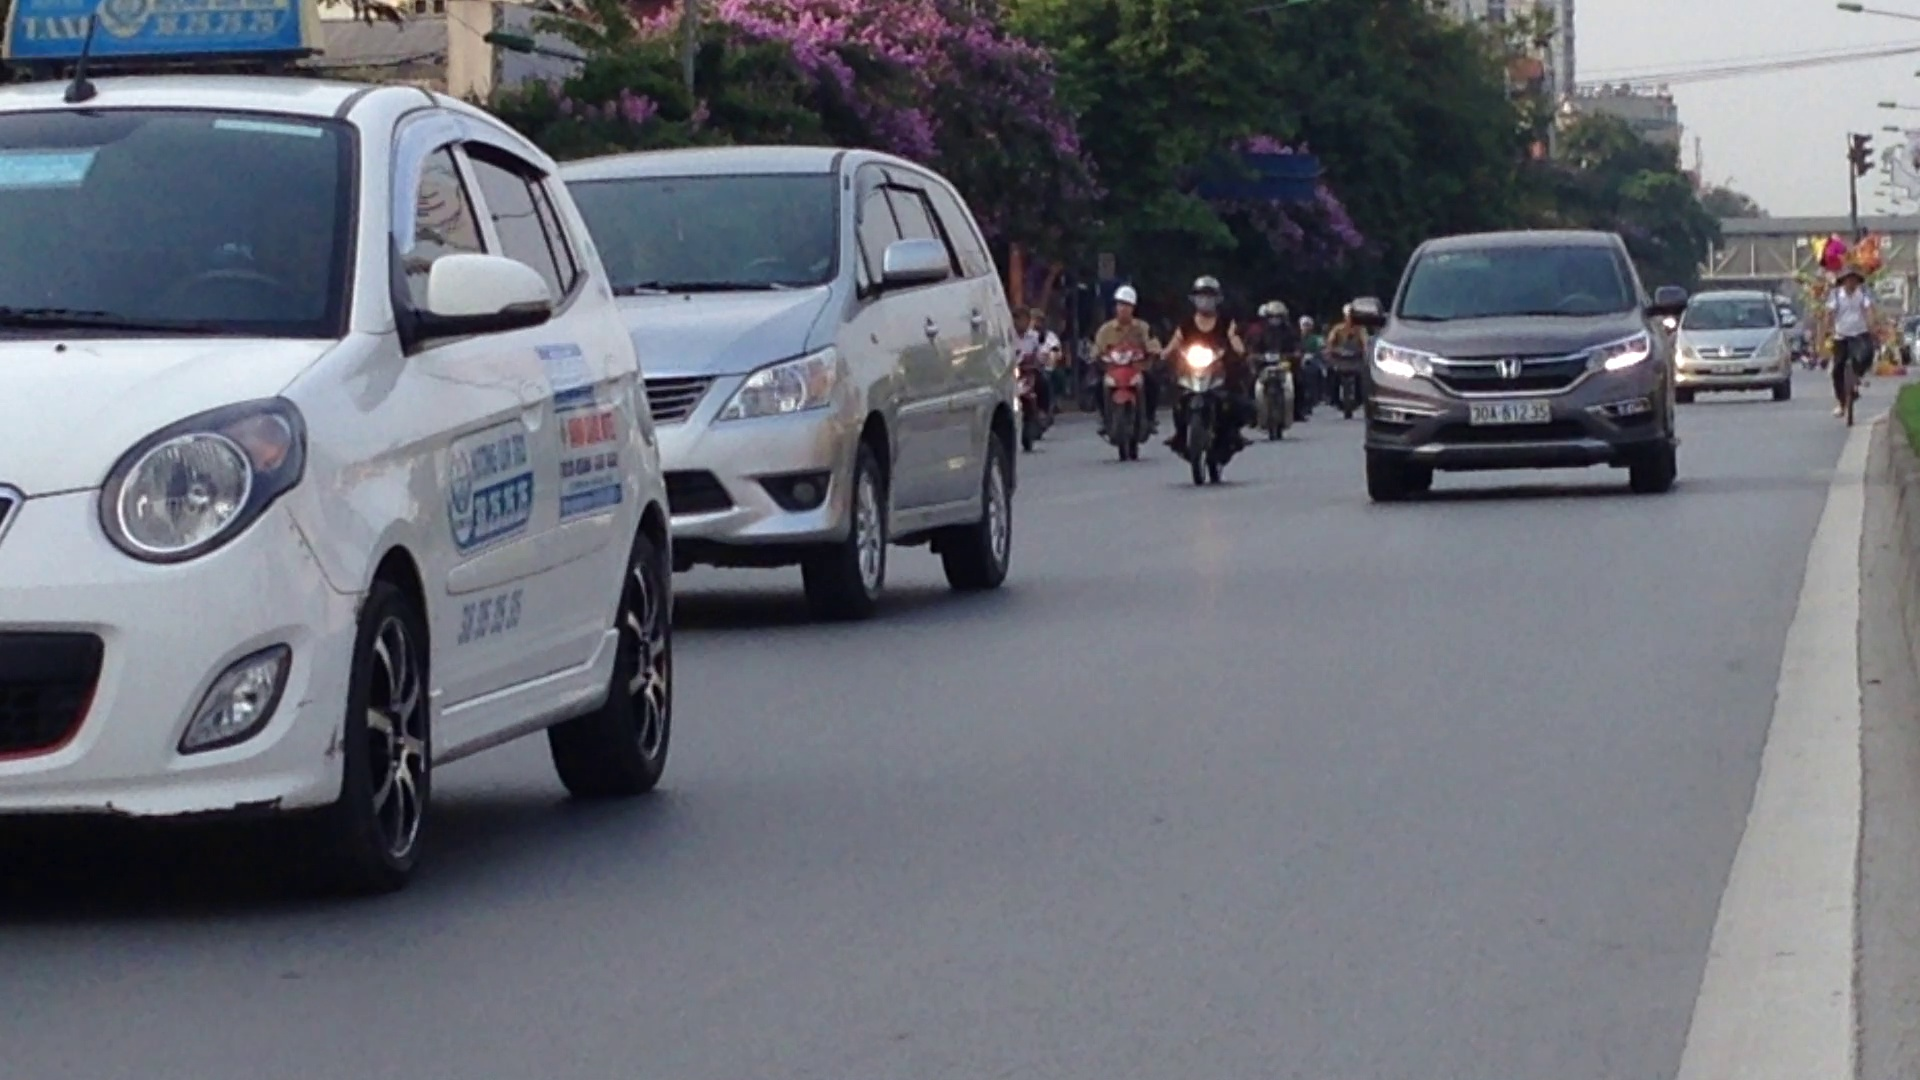person: (1468, 397, 1553, 426)
